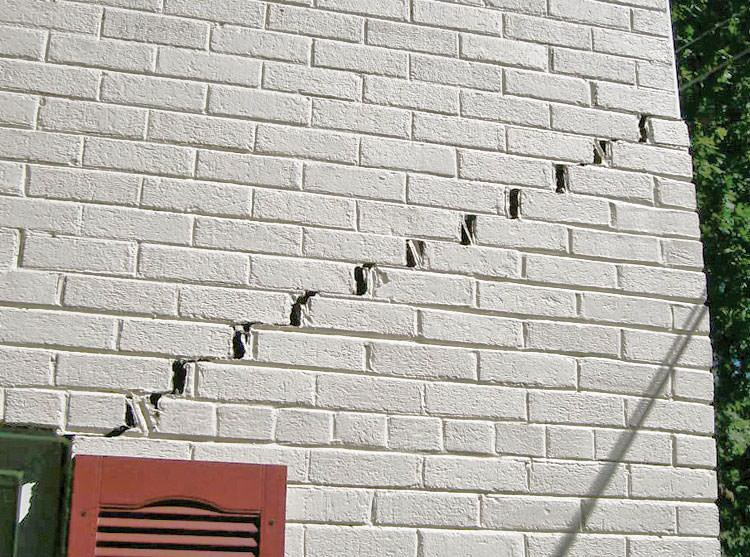stairstep_crack: (97, 110, 679, 438)
